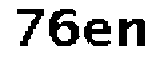6: (47, 2, 80, 51)
7: (14, 2, 45, 50)
e: (83, 17, 113, 52)
n: (115, 16, 152, 51)
